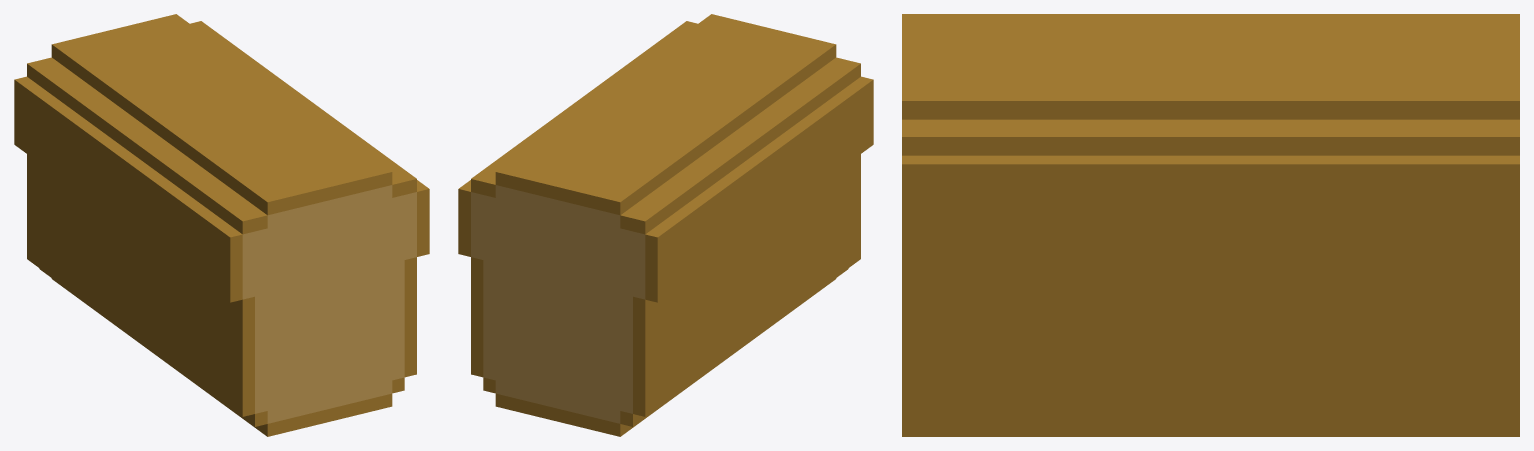
The model's file is Bread.obj.
The picture shows the model from 3 angles, left to right: view 1: azimuth 30°, elevation 25°; view 2: azimuth 150°, elevation 25°; view 3: azimuth 270°, elevation 25°; orthographic projection. The views are drawn at different scales.
Bounding box in the file's own units: 1.6 × 1.8 × 3.
Materials: 1 (1 with a texture image).
